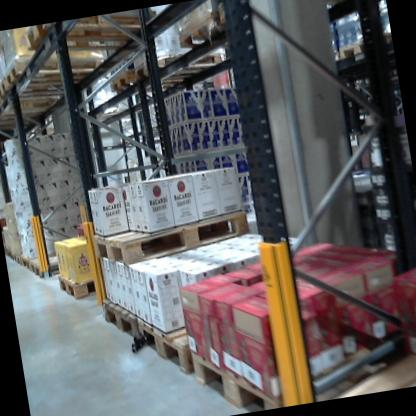pallet: (187, 289, 416, 416), (90, 190, 253, 277), (20, 6, 163, 66), (168, 0, 253, 69), (2, 43, 103, 97), (134, 304, 206, 379), (0, 63, 106, 103), (126, 43, 224, 86), (330, 349, 416, 398), (109, 58, 198, 102), (94, 293, 143, 351), (0, 90, 67, 123), (51, 261, 100, 303), (337, 32, 387, 68), (28, 252, 80, 280), (20, 246, 64, 272)
